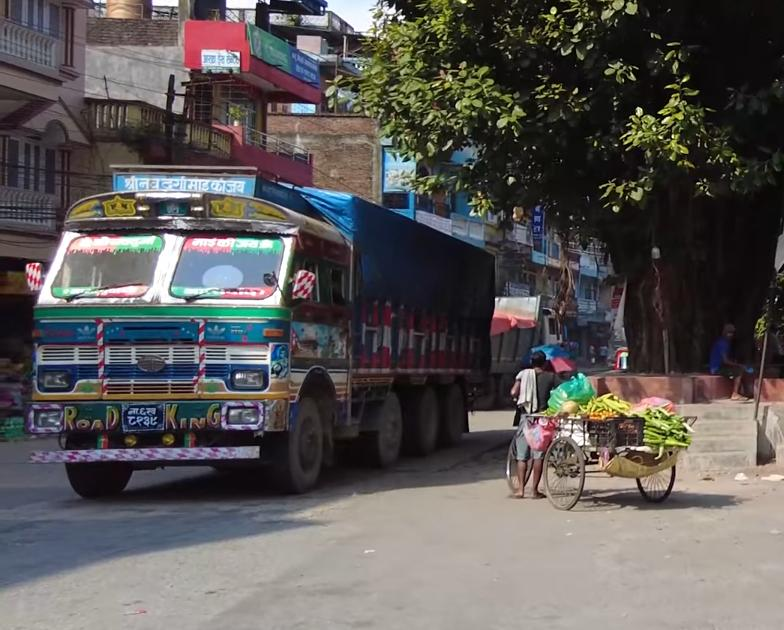truck: (21, 167, 496, 498)
